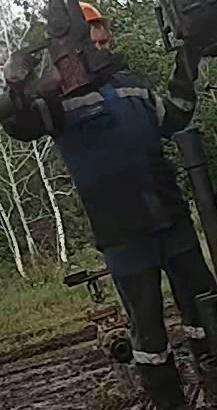gloves: (165, 55, 201, 106)
helmet: (80, 5, 108, 47)
vest: (59, 87, 198, 242)
